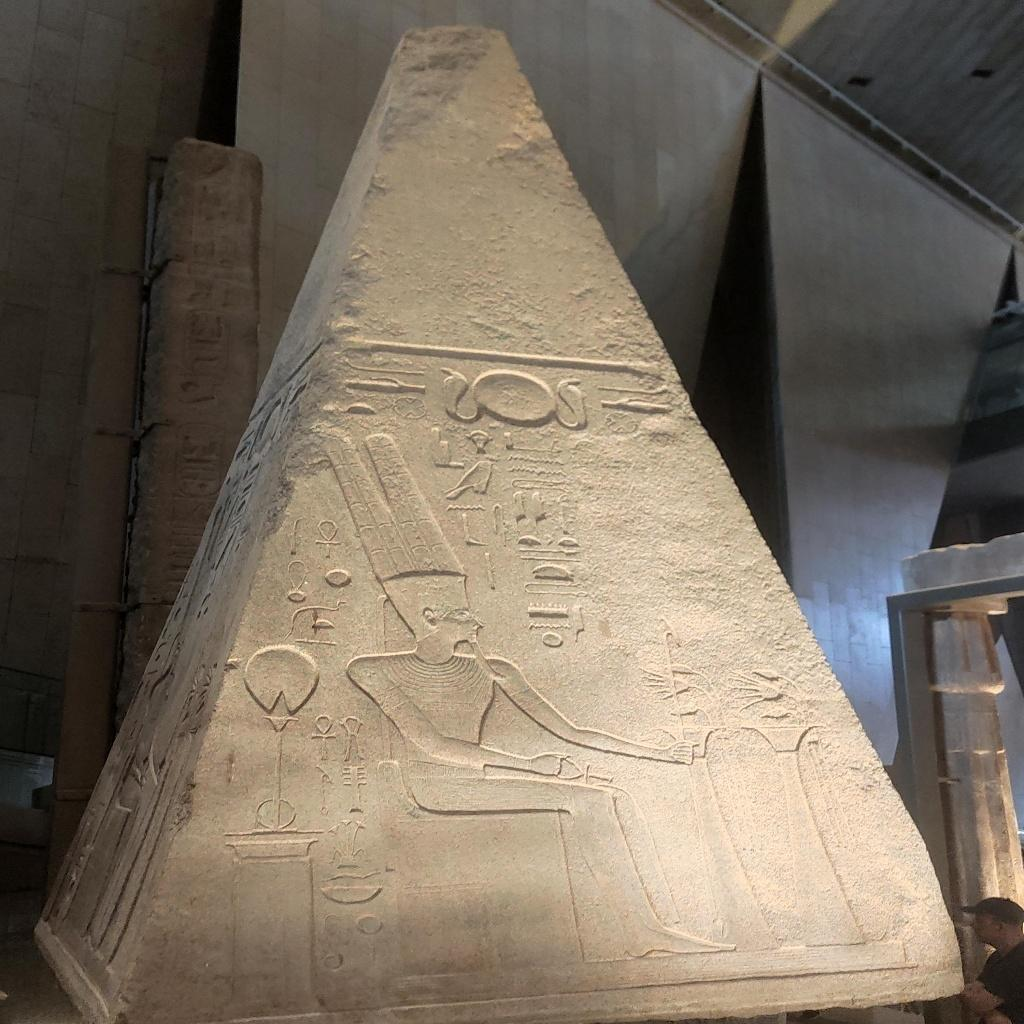Obelsik Tip of Hatshepsut: (29, 22, 966, 1008)
